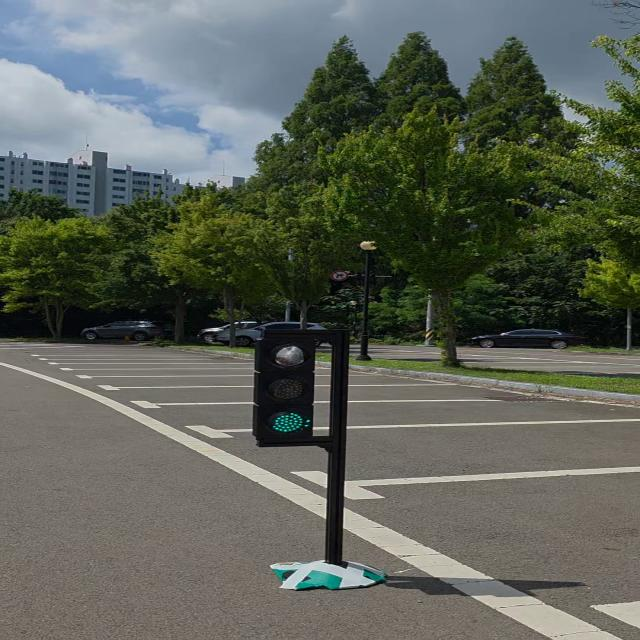green: (253, 331, 317, 444)
